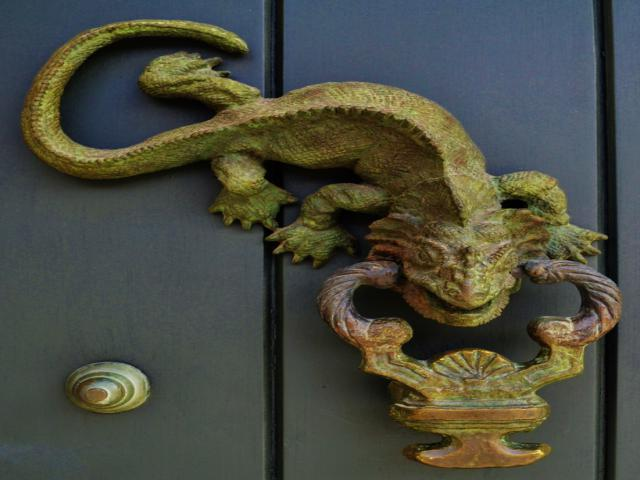Door-handle: (19, 19, 620, 469)
